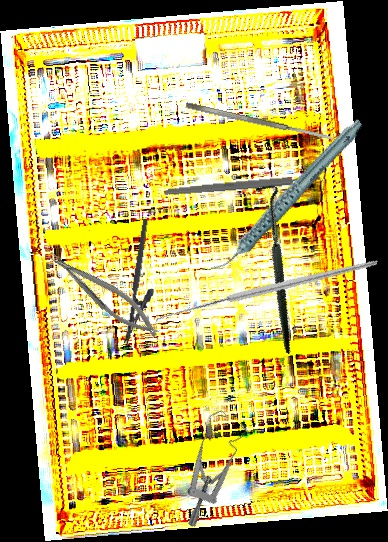Handpiece: (188, 117, 387, 273)
Hook Surgical: (153, 206, 378, 385), (202, 179, 346, 355)
Needle Holder: (43, 240, 165, 347), (122, 218, 166, 347)
Scalpel Handle: (163, 174, 321, 197)
Spatula Surgical: (185, 101, 334, 143)
Speculum: (145, 402, 270, 530)
